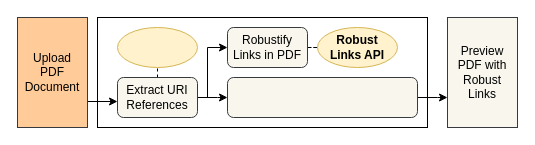
The diagram is 535 pixels wide and 145 high, and some of its shapes have lost their labels. Each missing label, with the centre of its shape:
Announce Robust Links to LD Server via LDN: (322,97)
PyPDF2, PDFIUM: (157,47)
